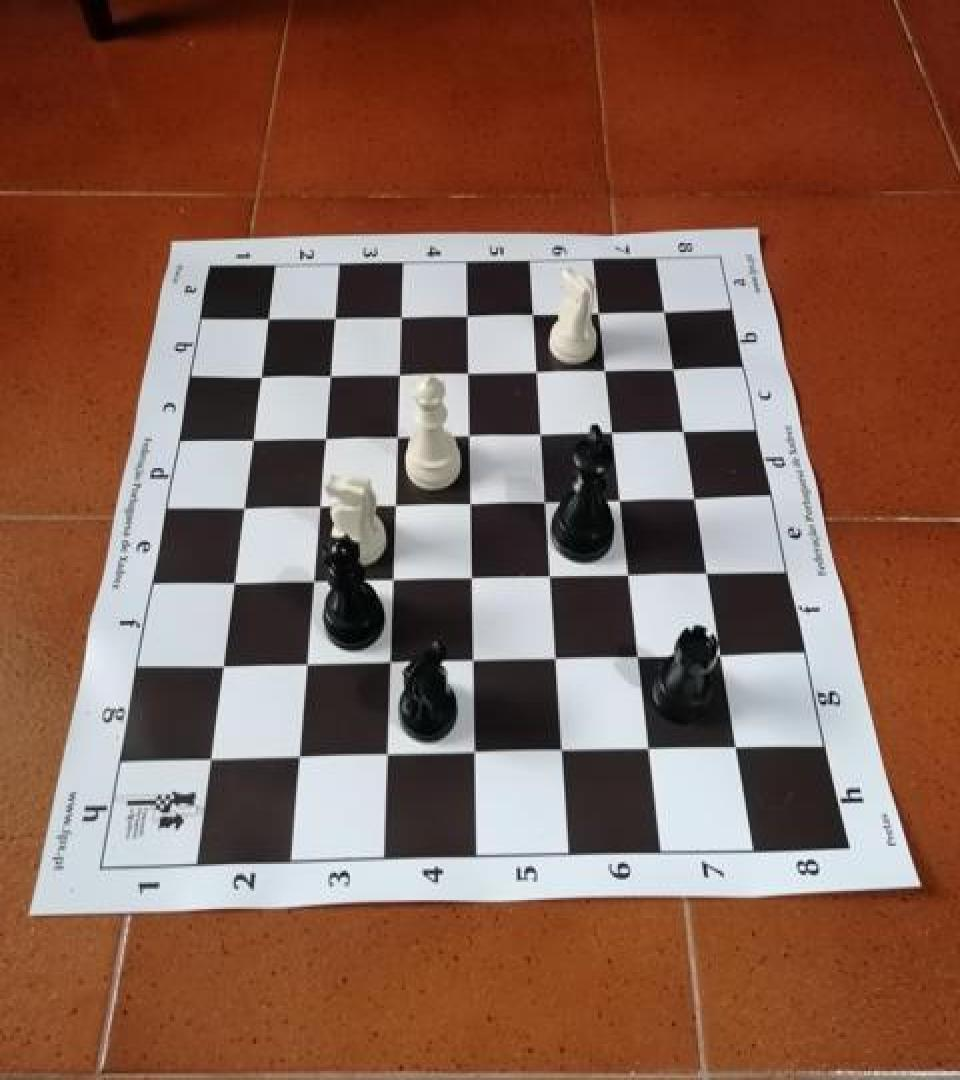xcorner: (636, 732, 668, 769), (549, 734, 581, 771), (285, 741, 317, 778), (647, 292, 679, 328), (582, 294, 614, 330), (516, 295, 548, 331), (450, 297, 482, 333), (385, 298, 417, 334), (319, 299, 351, 335), (253, 300, 285, 336), (657, 349, 689, 385), (589, 351, 621, 387), (520, 352, 552, 388), (452, 353, 484, 389), (383, 356, 415, 392), (315, 356, 347, 392), (246, 358, 278, 394), (668, 412, 700, 448), (596, 413, 628, 449), (525, 415, 557, 451), (453, 416, 485, 452), (381, 418, 413, 454), (310, 420, 342, 456), (238, 421, 270, 457), (680, 479, 712, 515), (605, 482, 637, 518), (530, 482, 562, 518), (455, 485, 487, 521), (380, 486, 412, 522), (304, 488, 336, 524), (229, 490, 261, 526), (693, 554, 725, 590), (614, 557, 646, 593), (536, 558, 568, 594), (457, 560, 489, 596), (378, 562, 410, 598), (298, 564, 330, 600), (219, 566, 251, 602), (708, 638, 740, 674), (625, 640, 657, 676), (542, 641, 574, 677), (459, 644, 491, 680), (375, 646, 407, 682), (292, 648, 324, 684), (208, 650, 240, 686), (724, 730, 756, 766), (461, 737, 493, 773), (373, 739, 405, 775), (196, 744, 228, 780)
